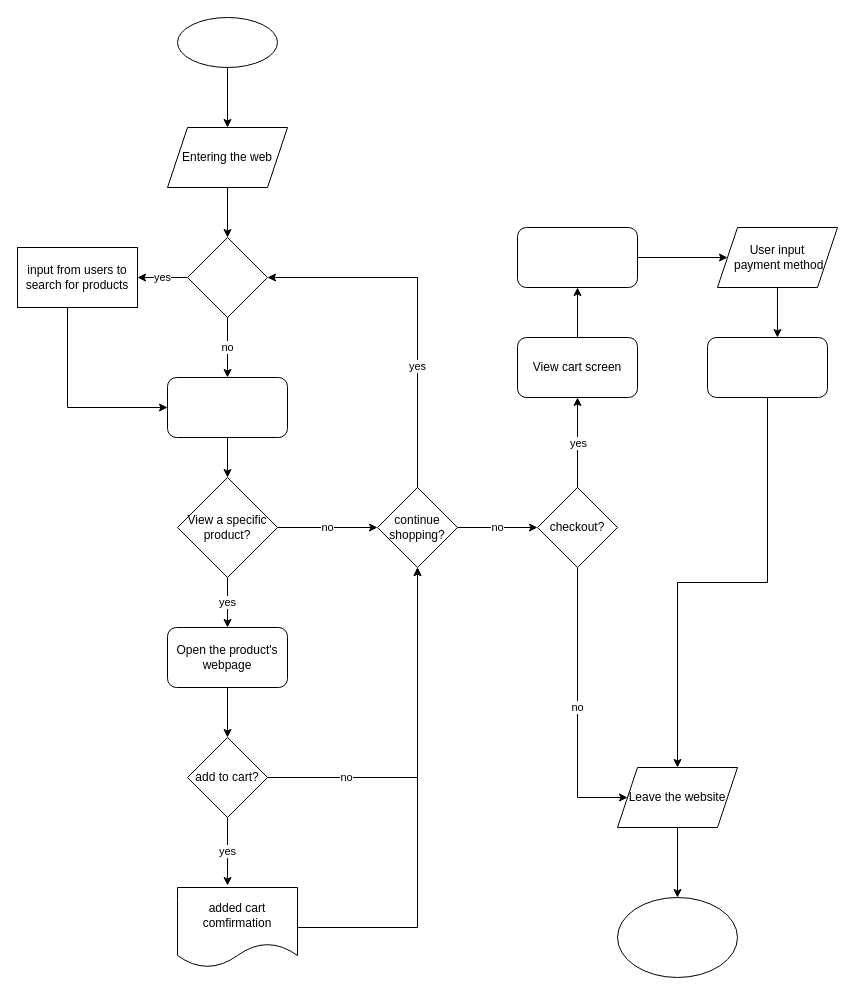
Some shapes in this 855 by 995 pixel diagram are drawn without their labels. Here are the shapes that lost their labels. From the top down, the centre of each, then its label:
[227,42]: Start
[227,277]: Search for product?
[577,257]: View payment screen
[767,367]: comfirmation screen
[227,407]: Look over the products
[677,937]: End
